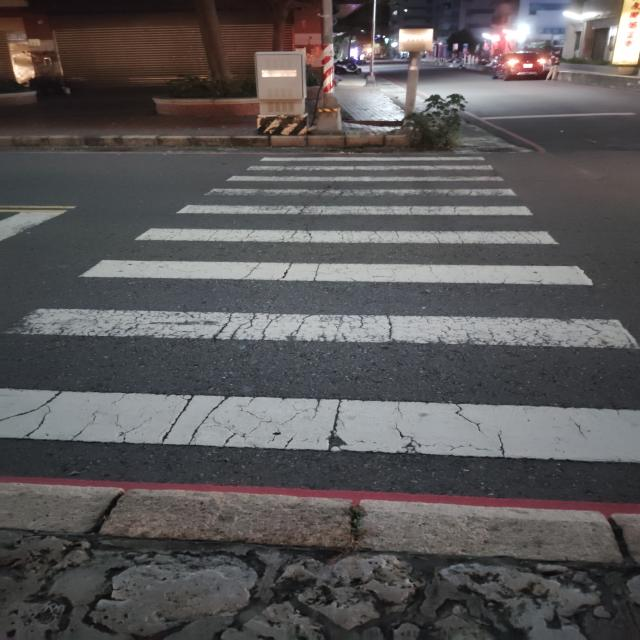zebra crossing: (2, 153, 640, 465)
